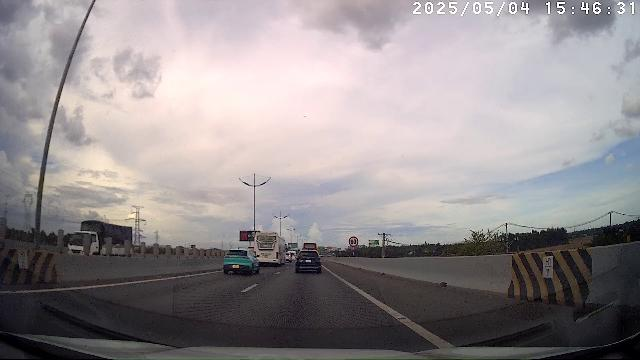127-toc-do-toi-da-80: (348, 236, 359, 247)
